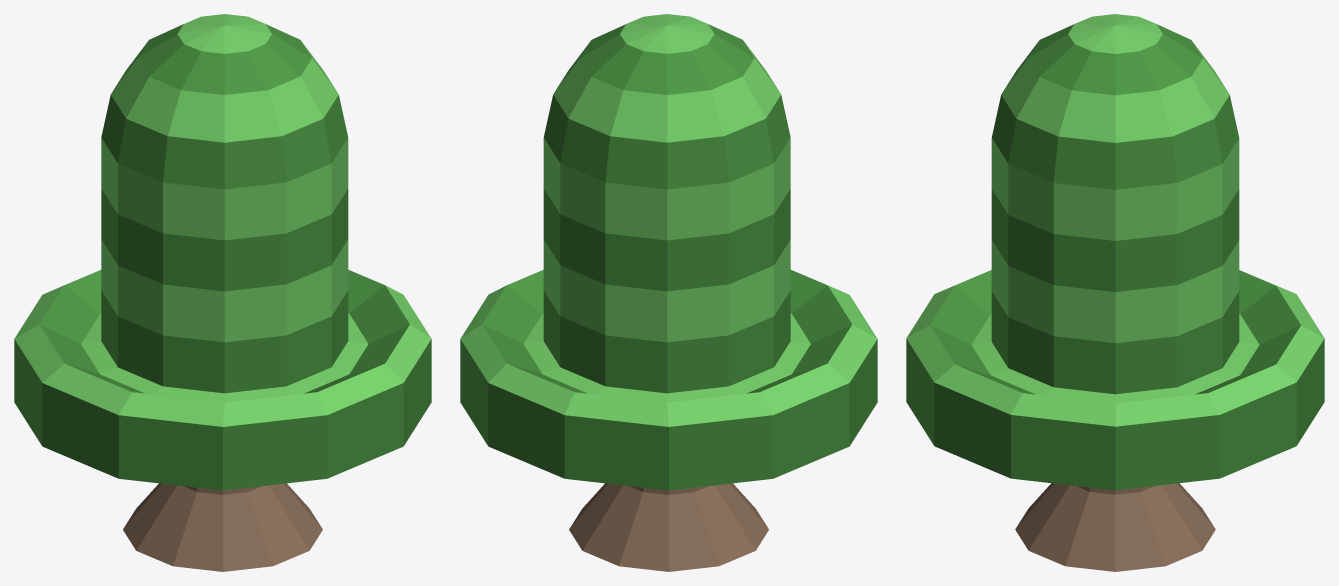
File: Tree.fbx
The picture shows the model from 3 angles, left to right: view 1: azimuth 30°, elevation 25°; view 2: azimuth 150°, elevation 25°; view 3: azimuth 270°, elevation 25°; orthographic projection.
Visible parts, largest first — view 1: Cylinder; view 2: Cylinder; view 3: Cylinder.
Boxes of the visible parts, <box> form: Cylinder: <box>14,14,431,571</box>; Cylinder: <box>460,14,877,571</box>; Cylinder: <box>906,14,1324,571</box>.
Bounding box in the file's own units: 265 × 353 × 265.
